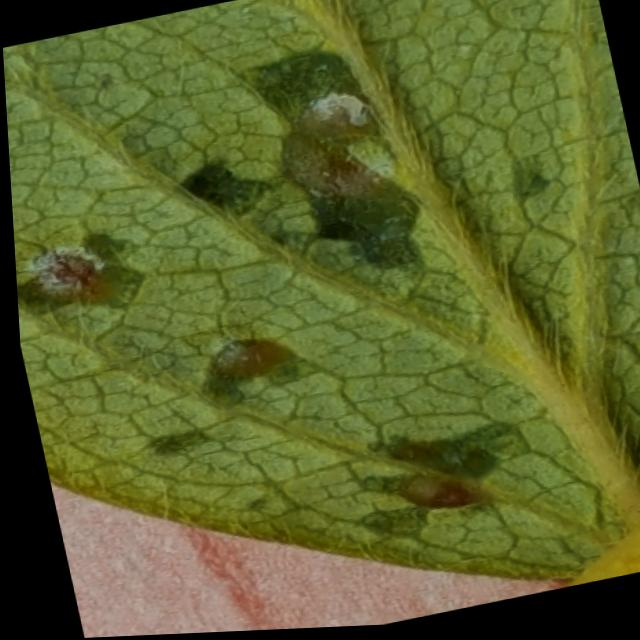Angular Leafspot: (10, 20, 640, 566)
